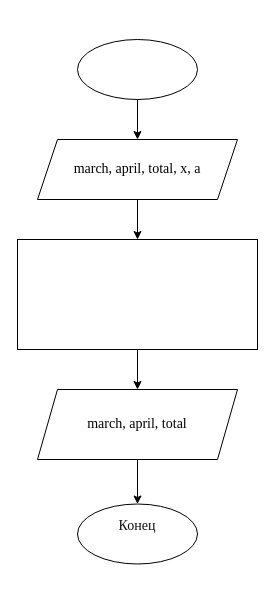
This 275x603 diagram has some shape labels left out. Each missing label, with the centre of its shape:
"march = 4 * 31 * x; april = 4 * 30 * (x + x + a); total = march + april;" goes at point 137,294.
"Начало" goes at point 137,69.
